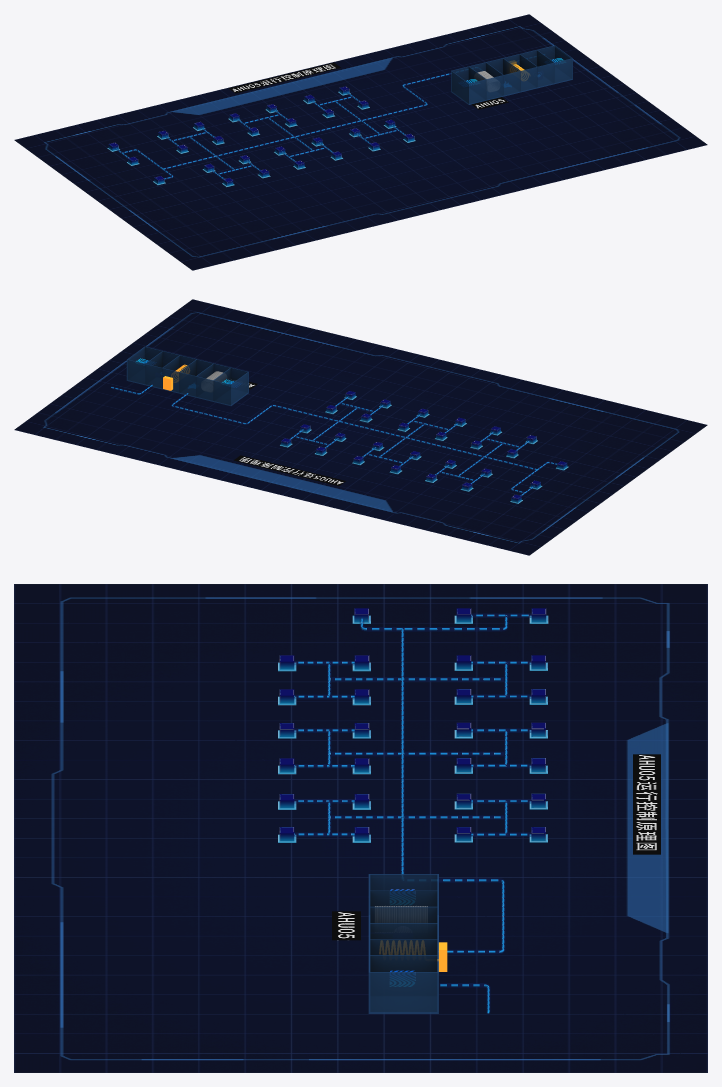
File: AHU05.FBX
3 renders of one model, top to bottom at view 1: azimuth 30°, elevation 25°; view 2: azimuth 150°, elevation 25°; view 3: azimuth 270°, elevation 25°, orthographic. The views are drawn at different scales.
Parts seen in each view (by area): view 1: BG, MAU_Body, AHU05_Pipe, Outlet294, AHU05_Wind, RoomName; view 2: BG, MAU_Body, AHU05_Pipe, Outlet294, AHU05_Wind, RoomName; view 3: BG, AHU05_Pipe, MAU_Body, Outlet294, AHU05_Wind, RoomName, Coil.
Boxes of the visible parts, x1=… form: BG: x1=14, y1=14, x2=707, y2=270; MAU_Body: x1=451, y1=45, x2=572, y2=104; AHU05_Pipe: x1=115, y1=72, x2=450, y2=179; Outlet294: x1=107, y1=86, x2=415, y2=187; AHU05_Wind: x1=116, y1=73, x2=449, y2=179; RoomName: x1=229, y1=62, x2=508, y2=109; BG: x1=14, y1=299, x2=707, y2=555; MAU_Body: x1=126, y1=346, x2=248, y2=405; AHU05_Pipe: x1=111, y1=385, x2=556, y2=495; Outlet294: x1=280, y1=391, x2=568, y2=503; AHU05_Wind: x1=111, y1=385, x2=556, y2=495; RoomName: x1=231, y1=378, x2=345, y2=486; BG: x1=14, y1=584, x2=707, y2=1072; AHU05_Pipe: x1=294, y1=613, x2=531, y2=1013; MAU_Body: x1=368, y1=874, x2=438, y2=1013; Outlet294: x1=278, y1=608, x2=548, y2=842; AHU05_Wind: x1=294, y1=614, x2=528, y2=1013; RoomName: x1=332, y1=754, x2=660, y2=940; Coil: x1=375, y1=906, x2=427, y2=922.
Bounding box in the file's own units: 250 × 14.04 × 150.
